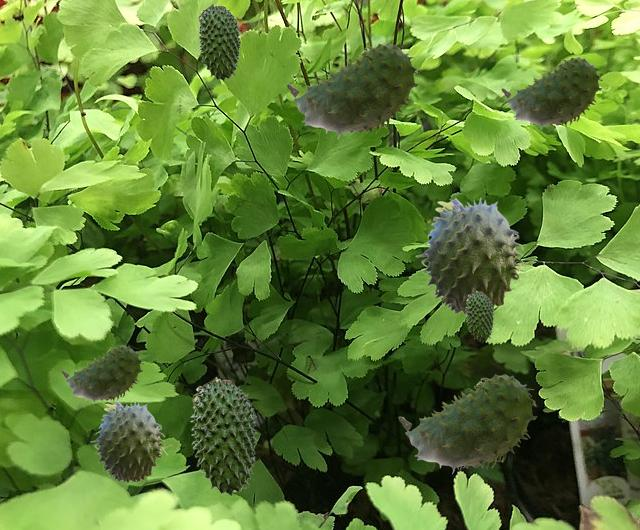guyabano: (415, 196, 533, 315), (398, 374, 536, 473), (286, 43, 418, 138), (190, 376, 257, 495), (501, 57, 601, 129), (90, 400, 171, 482), (61, 345, 142, 403), (197, 3, 240, 80), (465, 290, 493, 341)
